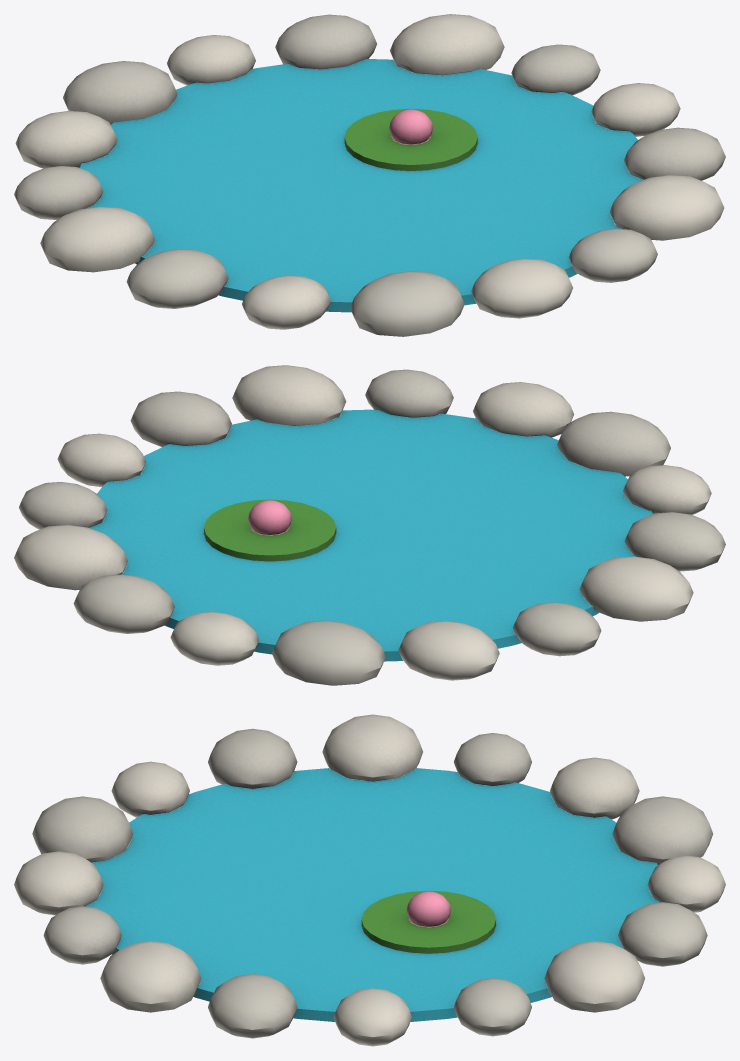
The model's file is pond.glb.
The picture shows the model from 3 angles, top to bottom: view 1: azimuth 30°, elevation 25°; view 2: azimuth 150°, elevation 25°; view 3: azimuth 270°, elevation 25°; orthographic projection.
Visible parts, largest first — view 1: pond; view 2: pond; view 3: pond.
Boxes of the visible parts, left/top/right/bottom form: pond: left=14, top=14, right=725, bottom=336; pond: left=14, top=365, right=725, bottom=685; pond: left=14, top=714, right=725, bottom=1046.
Bounding box in the file's own units: 1.31 × 0.084 × 1.27.
1 material, 1 textured.
